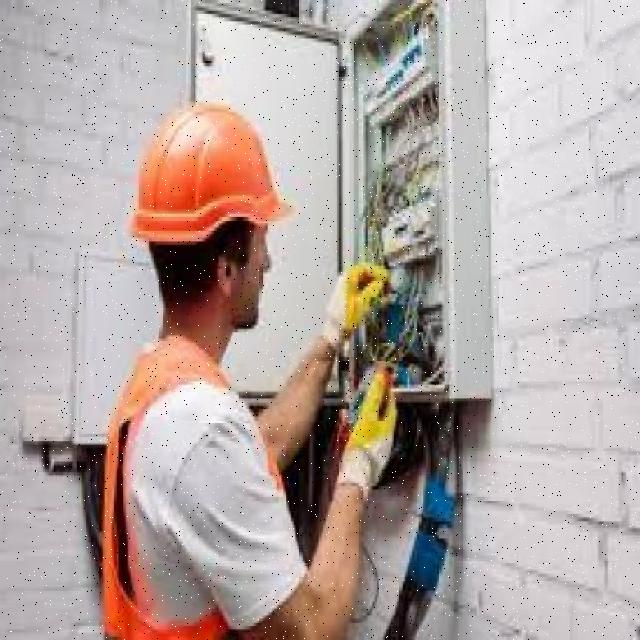Hard_hat: (123, 96, 300, 258)
